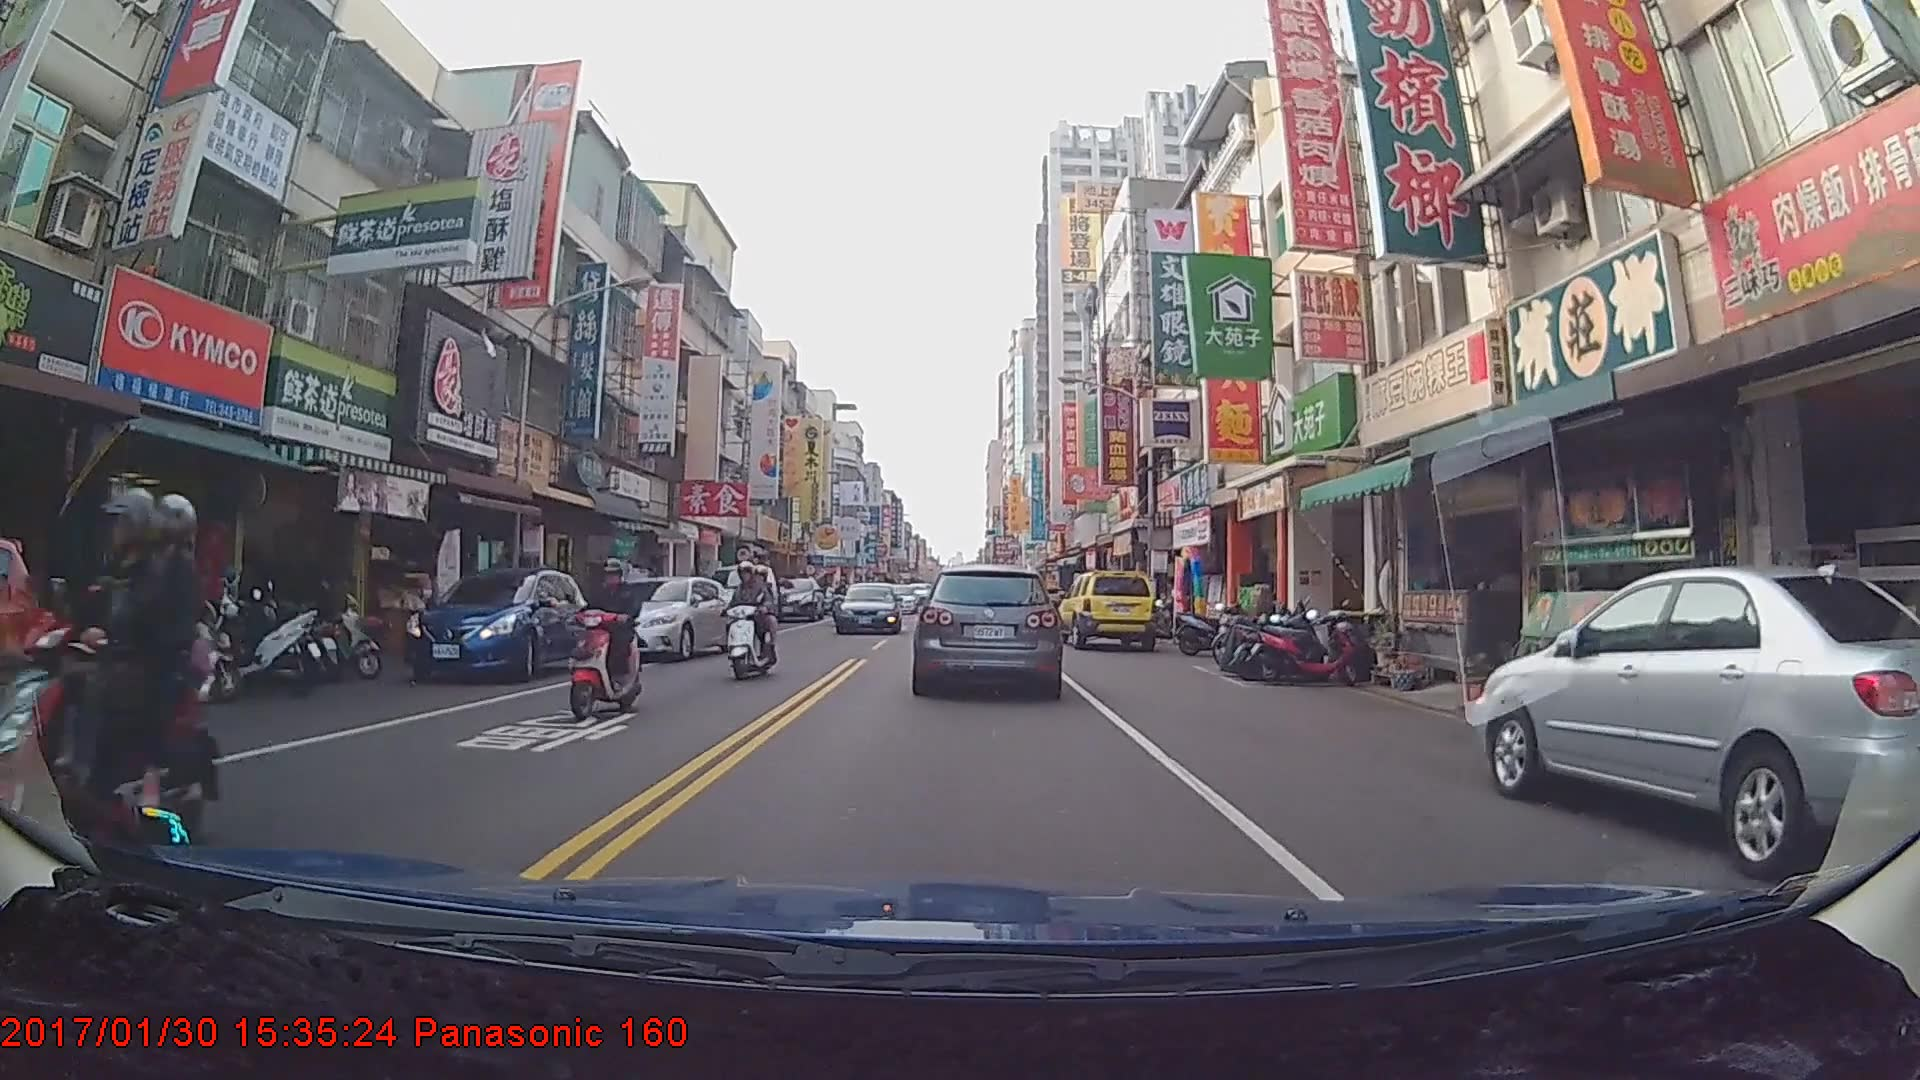rider: (0, 481, 220, 861), (559, 555, 648, 732), (724, 562, 790, 681)
vehicle: (1477, 567, 1920, 871), (399, 565, 598, 683), (915, 564, 1060, 696), (588, 579, 739, 666), (1057, 568, 1157, 650), (707, 562, 776, 629), (832, 582, 903, 636), (770, 577, 826, 621)
